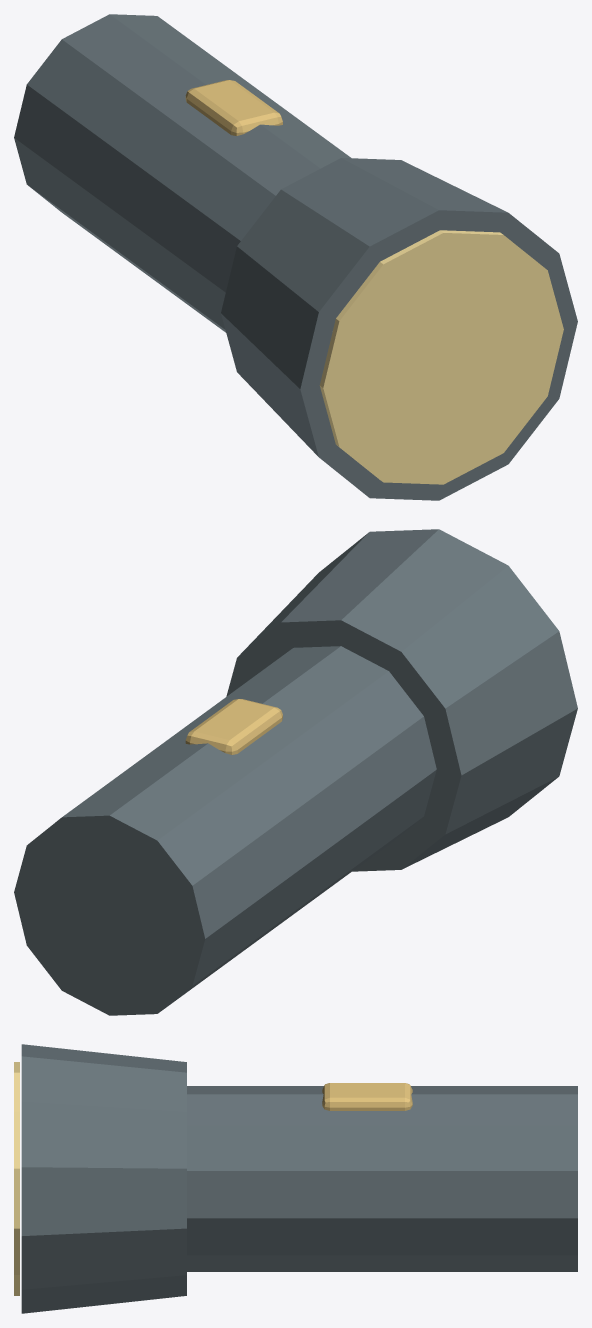
File: flashlight.glb
The picture shows the model from 3 angles, top to bottom: view 1: azimuth 30°, elevation 25°; view 2: azimuth 150°, elevation 25°; view 3: azimuth 270°, elevation 25°; orthographic projection. The views are drawn at different scales.
Parts seen in each view (by area): view 1: flashlight_Mesh; view 2: flashlight_Mesh; view 3: flashlight_Mesh.
Boxes of the visible parts, x1=… form: flashlight_Mesh: x1=14, y1=14, x2=577, y2=500; flashlight_Mesh: x1=14, y1=529, x2=577, y2=1015; flashlight_Mesh: x1=14, y1=1044, x2=577, y2=1313.
Bounding box in the file's own units: 0.18 × 0.18 × 0.375.
